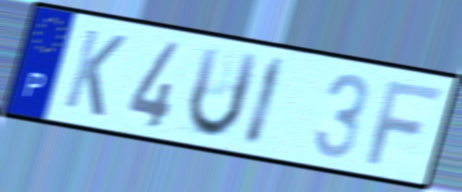3: (313, 72, 370, 160)
4: (123, 38, 182, 131)
F: (363, 78, 444, 168)
I: (240, 53, 289, 151)
K: (60, 25, 130, 120)
U: (185, 43, 263, 141)
